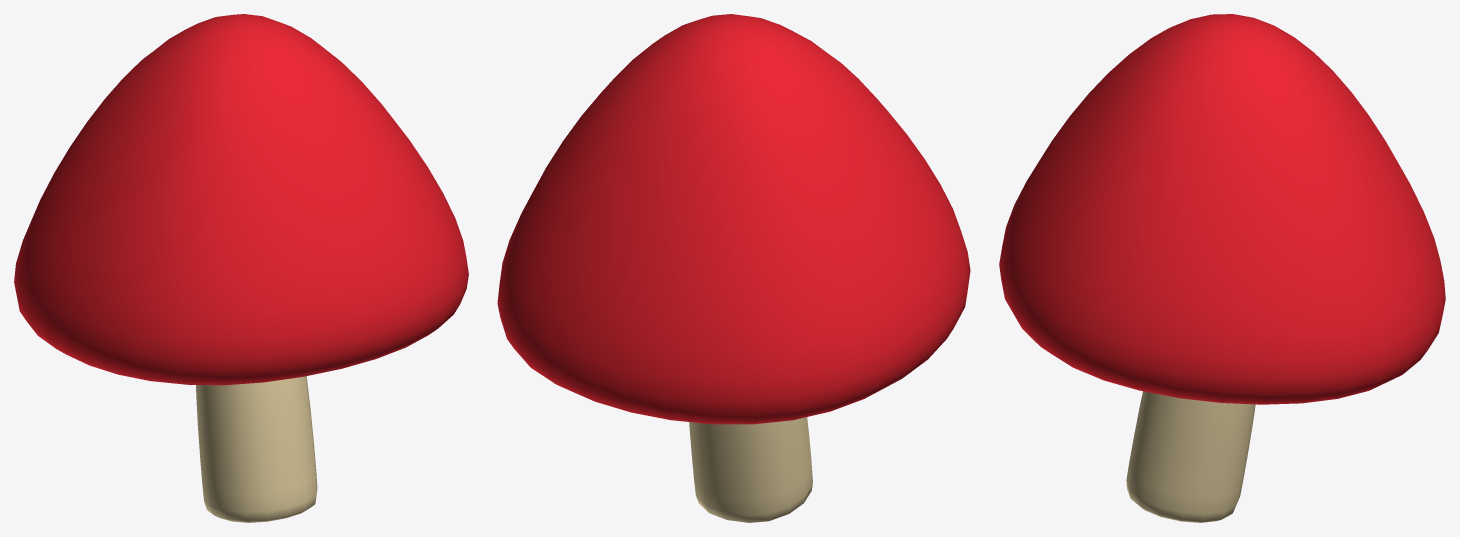
File: Mushroom_4.fbx
3 views of the same model, side by side, from view 1: azimuth 30°, elevation 25°; view 2: azimuth 150°, elevation 25°; view 3: azimuth 270°, elevation 25° (orthographic). The views are drawn at different scales.
Parts seen in each view (by area): view 1: Mushroom_4; view 2: Mushroom_4; view 3: Mushroom_4.
Part boxes in pixels (bbox=[...]): Mushroom_4: bbox=[14, 14, 468, 522]; Mushroom_4: bbox=[497, 14, 970, 522]; Mushroom_4: bbox=[999, 14, 1445, 522].
Bounding box in the file's own units: 23.46 × 27.5 × 22.97.
